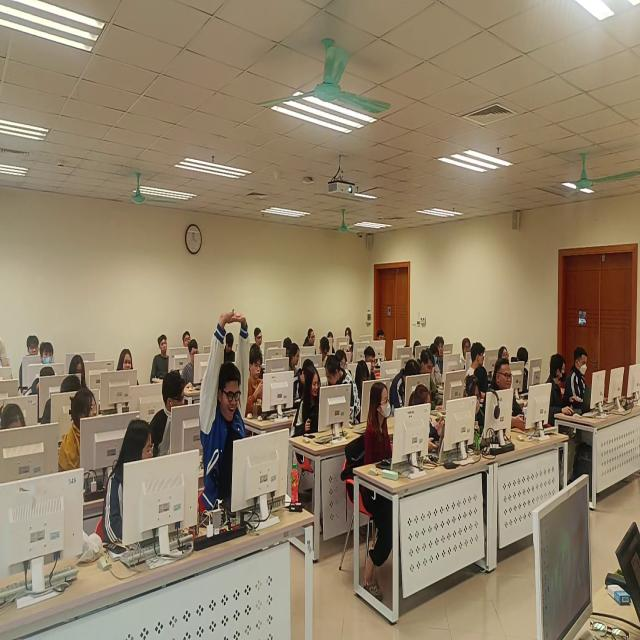raise_hand: (198, 306, 253, 514)
raise_head: (488, 358, 528, 431), (363, 379, 394, 465), (17, 333, 41, 398), (117, 346, 143, 388), (150, 334, 171, 385), (69, 349, 93, 388), (36, 339, 60, 366), (461, 334, 473, 373), (435, 335, 447, 374), (378, 328, 388, 360), (346, 325, 357, 352), (181, 330, 194, 348), (498, 343, 510, 362)
using_computer: (147, 369, 188, 459), (39, 377, 85, 429), (566, 345, 590, 410), (421, 349, 445, 411), (1, 396, 34, 439), (22, 367, 59, 404), (290, 357, 315, 404), (182, 338, 200, 393), (514, 346, 530, 392), (356, 358, 372, 401), (430, 341, 444, 385), (365, 345, 379, 384), (287, 342, 303, 376), (254, 326, 266, 364), (319, 336, 331, 369), (225, 331, 237, 363), (335, 349, 348, 373), (303, 327, 317, 349), (283, 335, 294, 358), (413, 339, 422, 360), (329, 331, 336, 353)
using_phone: (409, 384, 445, 465), (244, 347, 267, 418), (463, 374, 486, 434)
